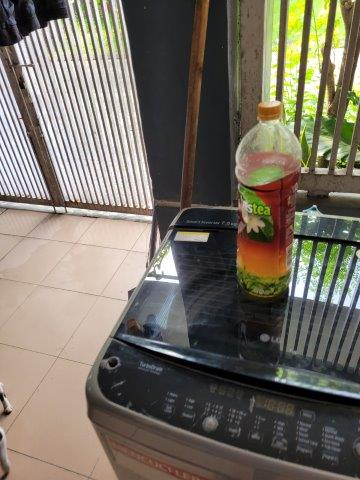botolplastik: (234, 101, 302, 301)
